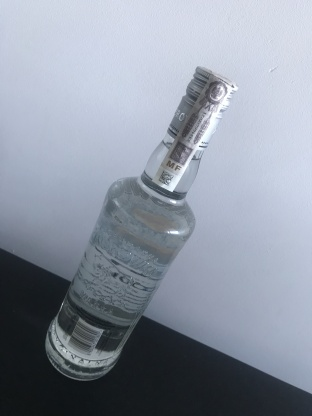nakretka: (165, 63, 240, 152)
